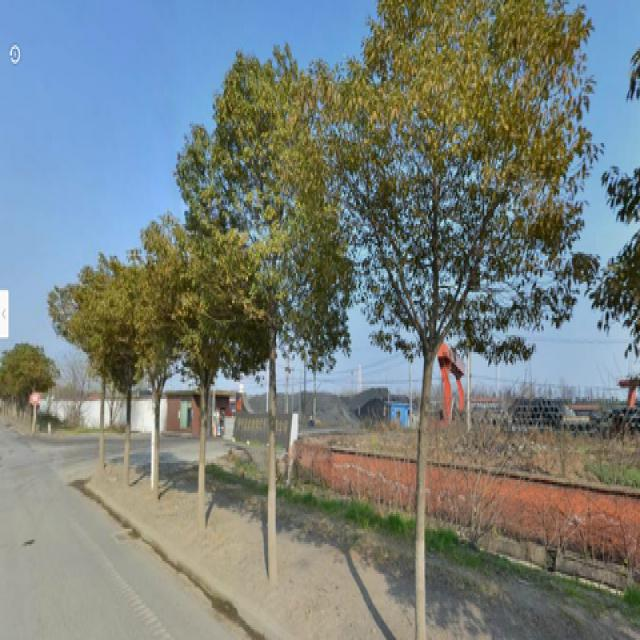cinn: (365, 21, 547, 593), (236, 86, 327, 536)
